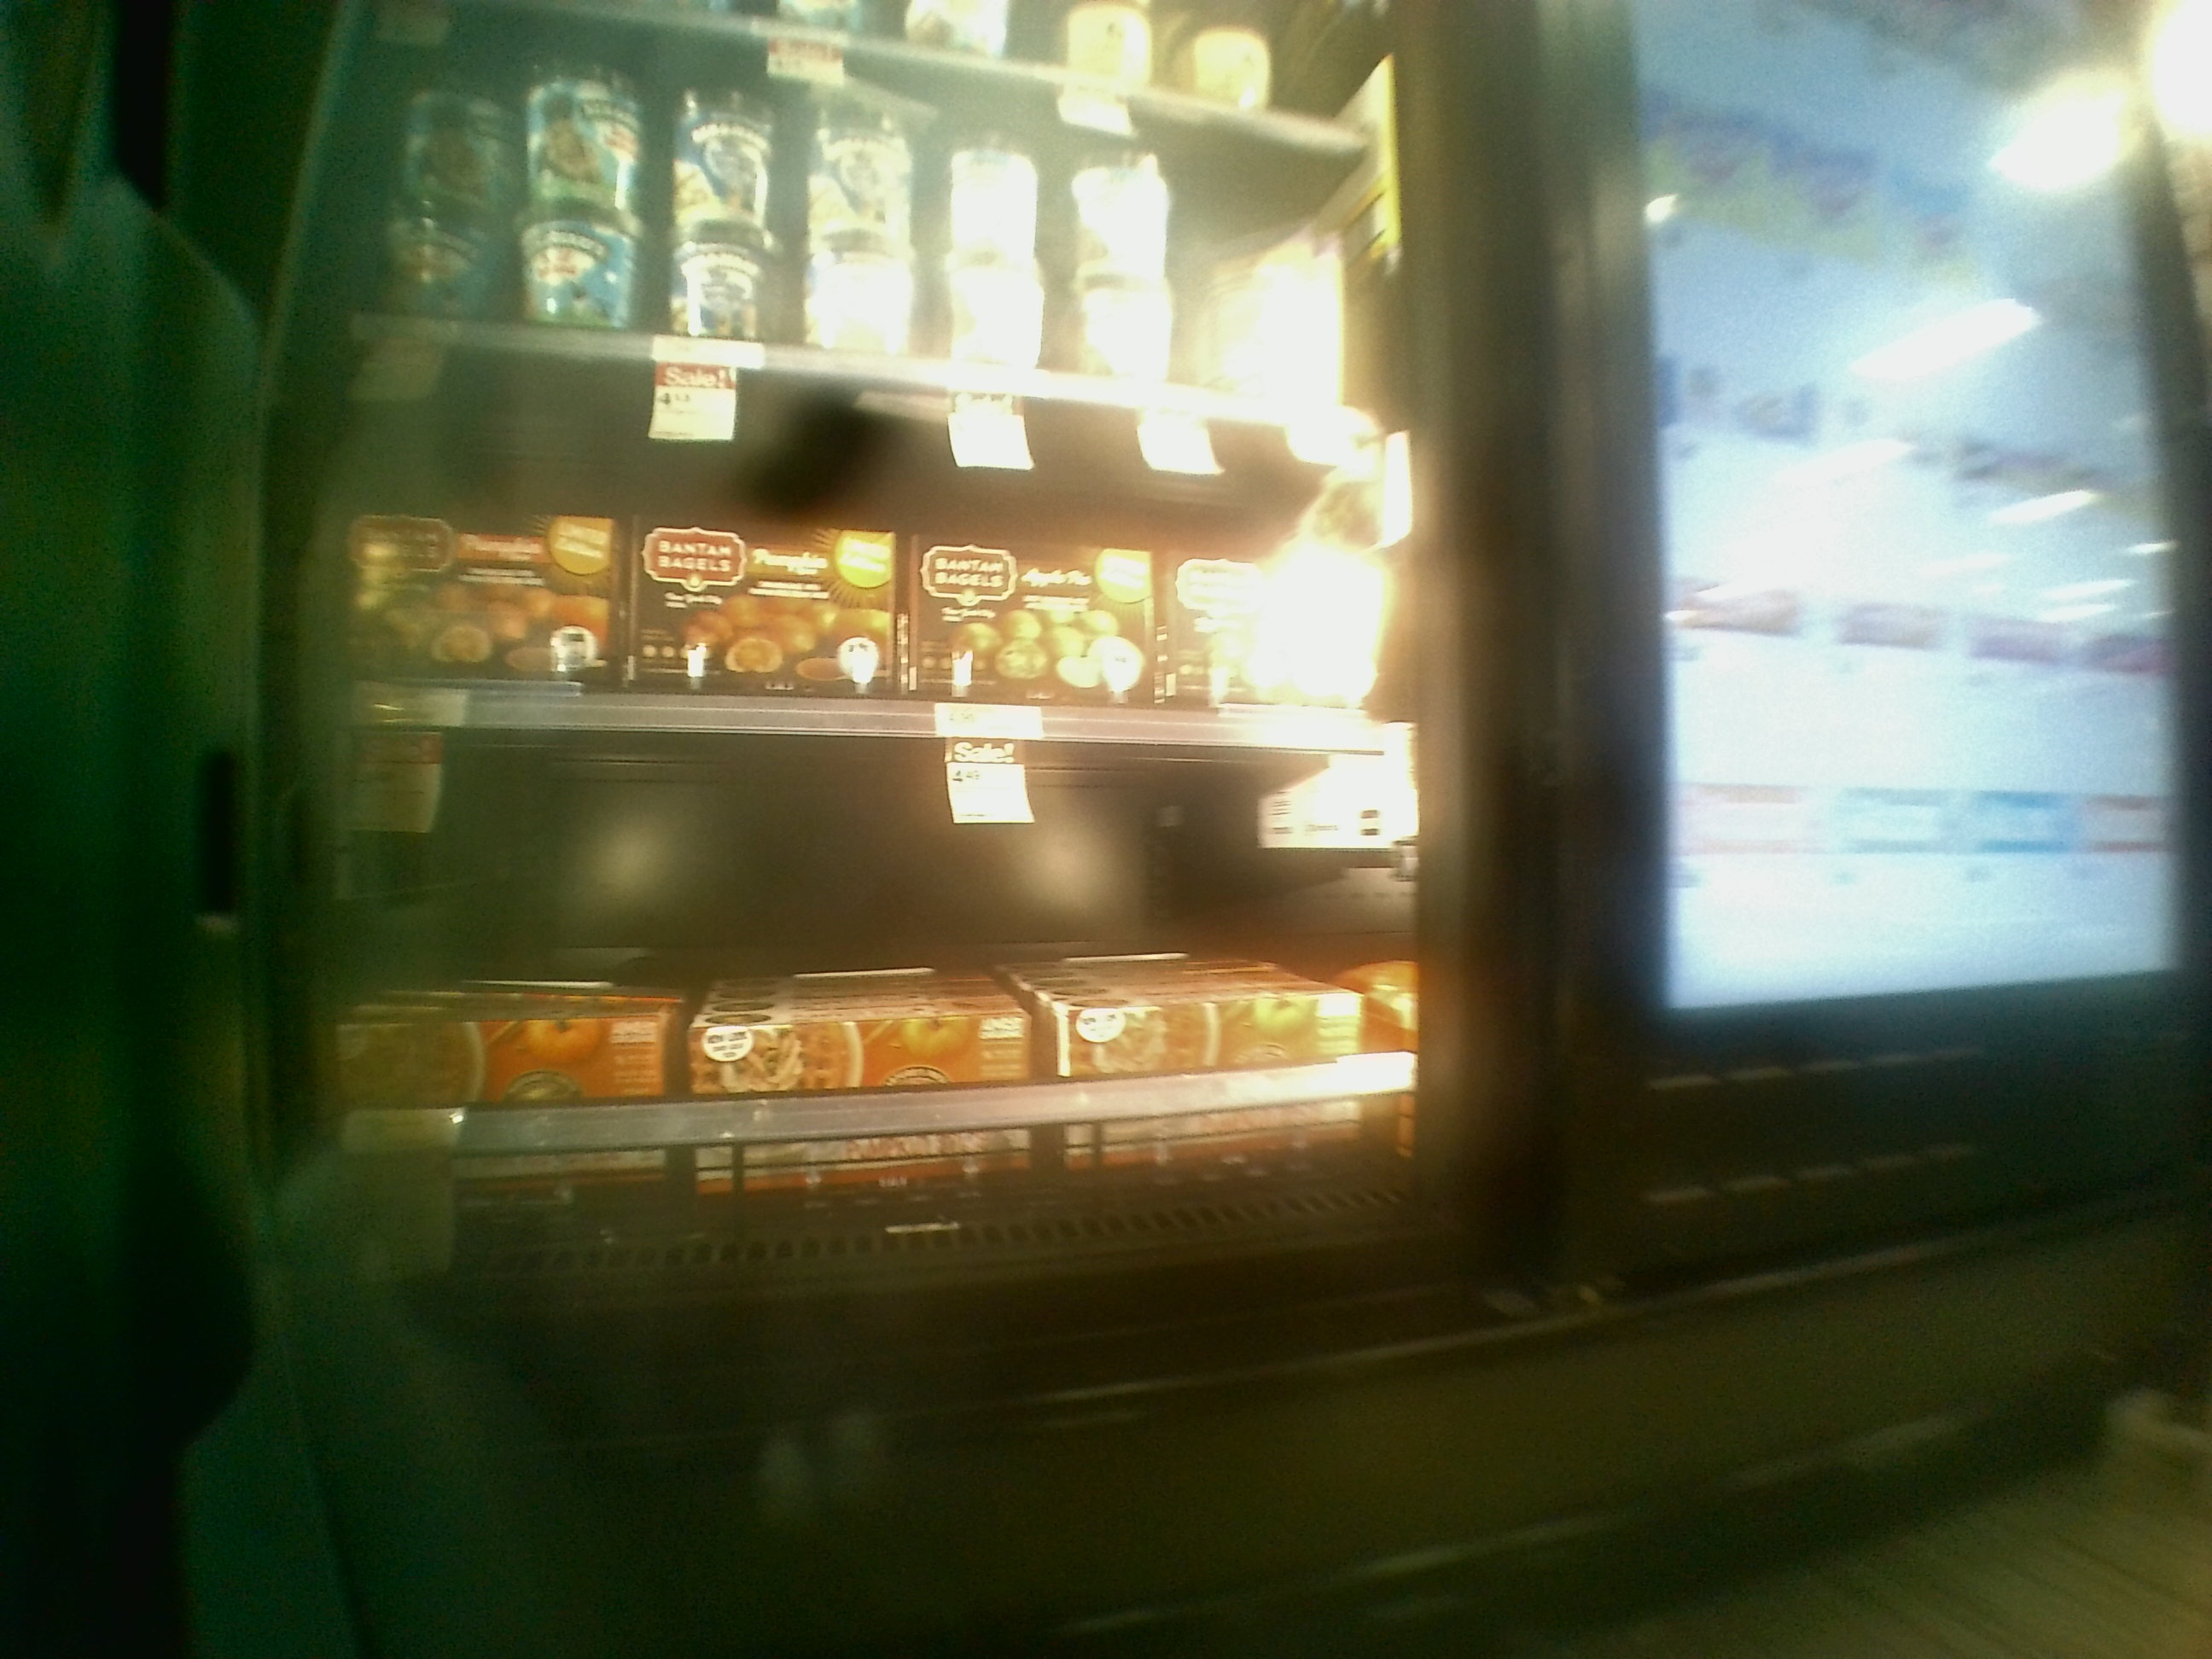shelf: (334, 704, 1451, 1283), (329, 303, 1439, 755)
